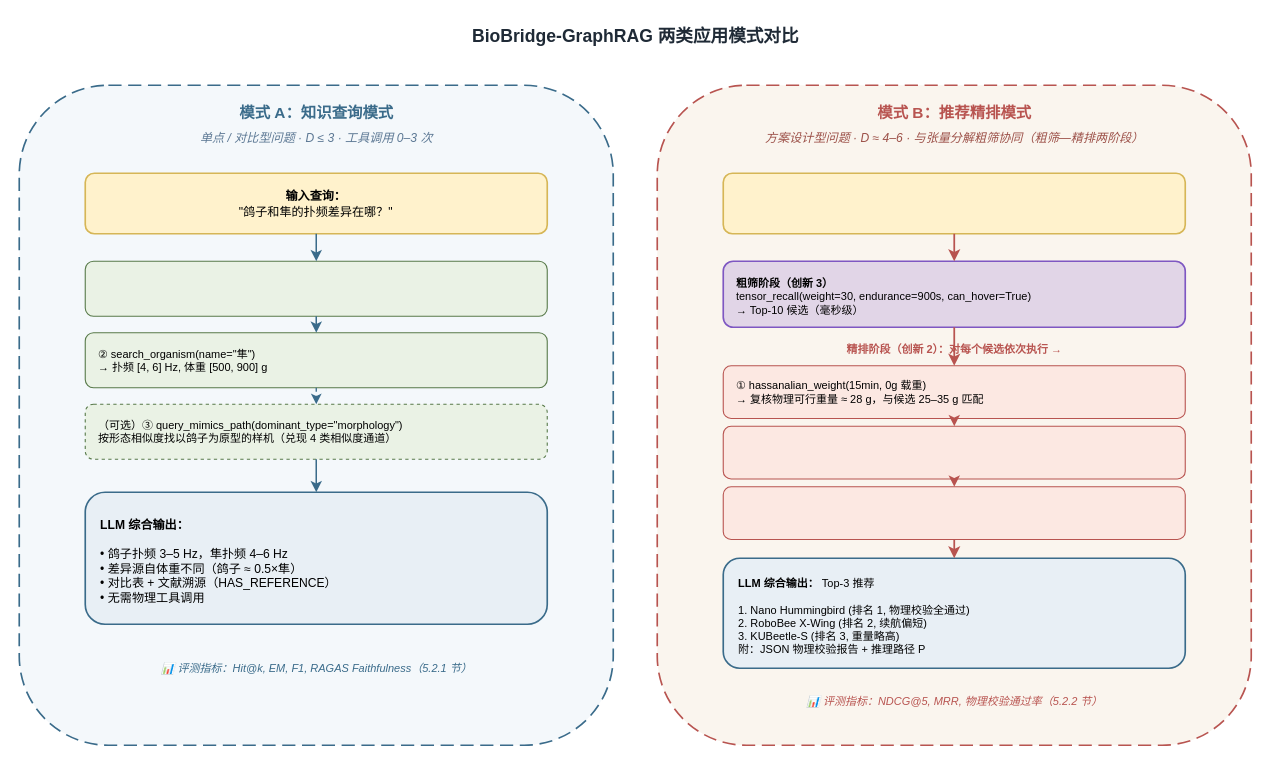
Image size: 1272x765. Some labels were removed from this diagram. The centre of each missing label's shape, as x and y in pixels:
① search_organism(name="鸽子") → 扑频 [3, 5] Hz, 体重 [200, 400] g: point (315, 288)
② shyy_scaling_law(weight=30g) → 翼展预测 280 mm，扑频 18 Hz；与候选偏离度量化: point (953, 452)
③ query_mimics_path(候选, dominant_type) → 检查仿生主导维度是否与「悬停 + 微型」任务匹配: point (953, 513)
输入查询： "重量 30 g、续航 15 min、需悬停的微型扑翼机推荐": point (954, 203)
